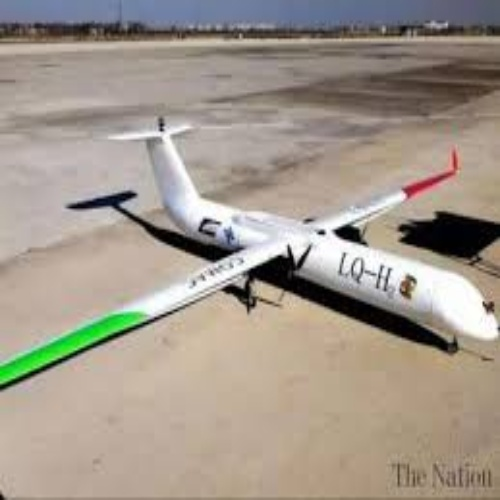uav314: (1, 120, 498, 389)
